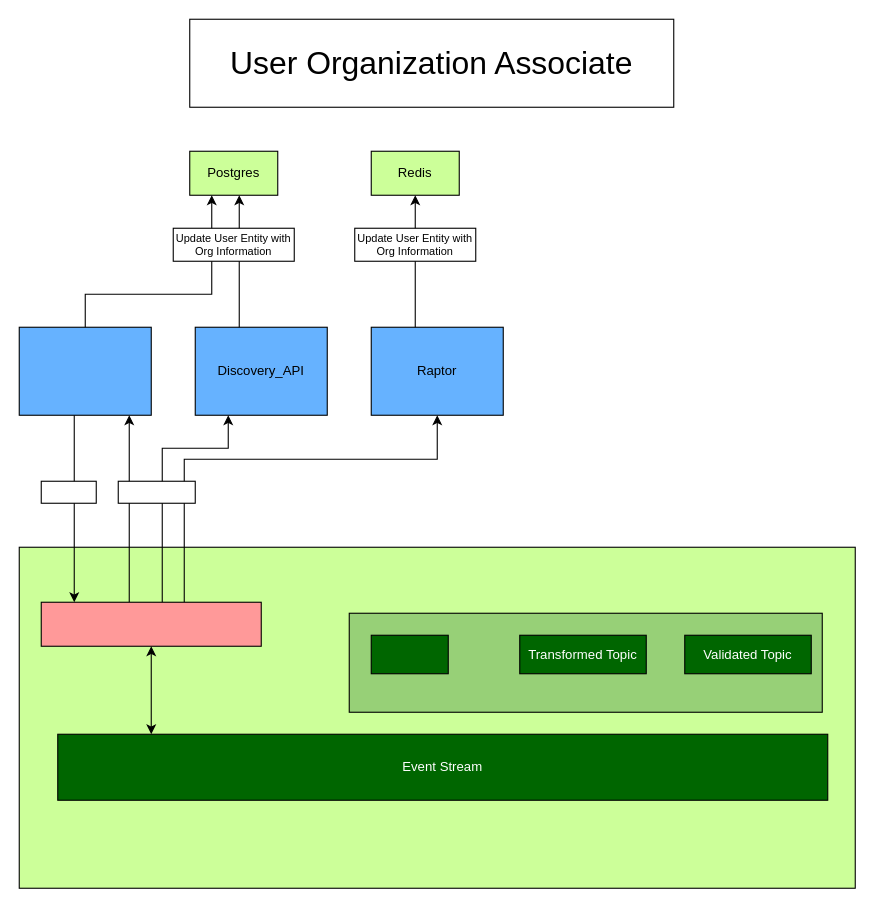
This 875x908 diagram has some shape labels left out. The shapes that lost their labels are listed below. From the top down, each one's centre as x and y in pixels, then its label:
At (84,370): "Andi".
At (68,491): "Send".
At (156,491): "Receieve".
At (150,623): "User_Organization_Associate".
At (409,654): "Raw Topic".
